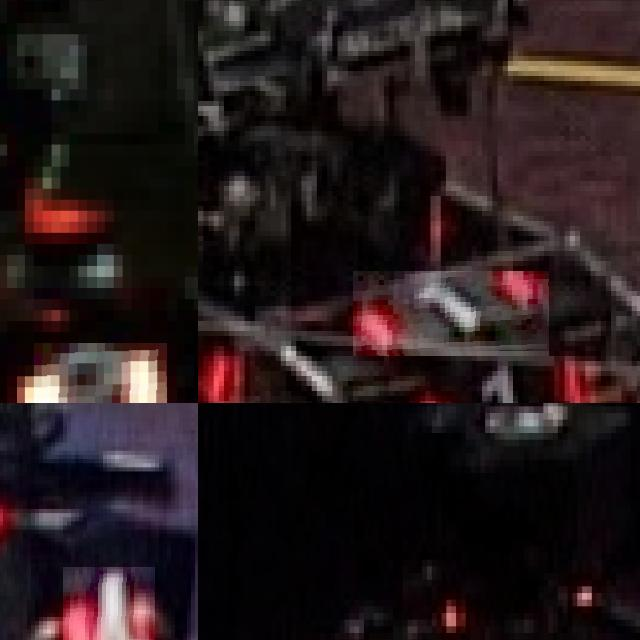R1: (353, 271, 549, 356), (420, 361, 580, 403), (198, 301, 250, 403)
R4: (63, 567, 155, 640)
Rs: (33, 343, 167, 403)
